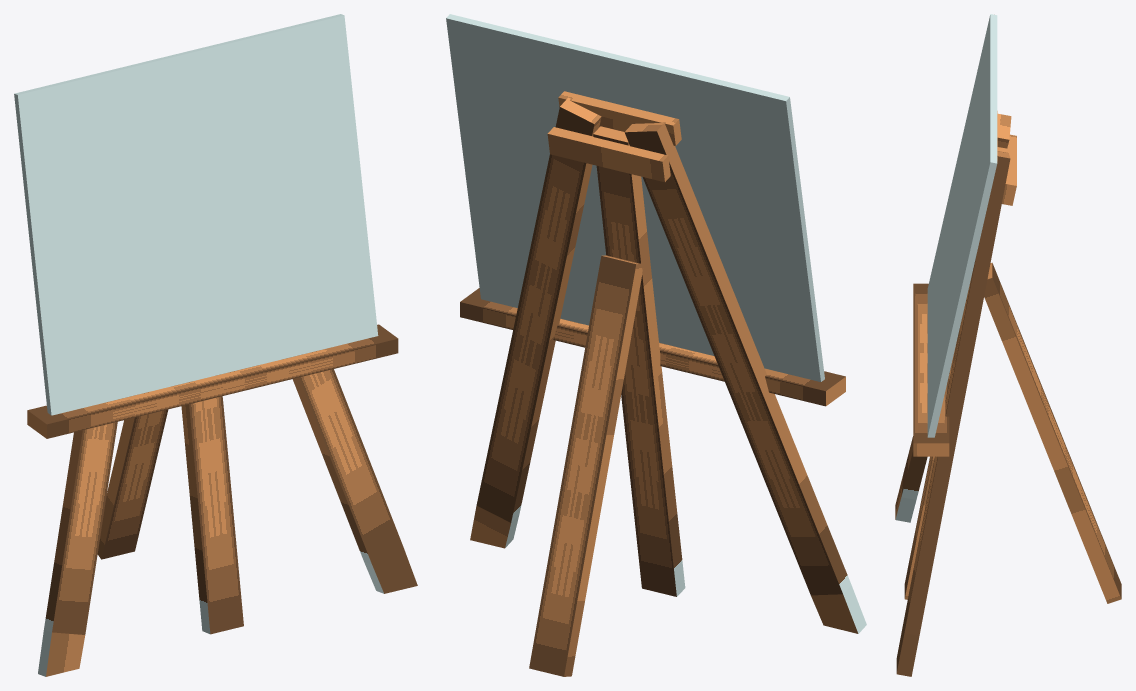
The model's file is easel_full.obj.
The picture shows the model from 3 angles, left to right: view 1: azimuth 30°, elevation 25°; view 2: azimuth 150°, elevation 25°; view 3: azimuth 270°, elevation 25°; orthographic projection. The views are drawn at different scales.
Parts seen in each view (by area): view 1: Cube.001_Cube.008; view 2: Cube.001_Cube.008; view 3: Cube.001_Cube.008.
Boxes of the visible parts, <box> form: Cube.001_Cube.008: <box>14,14,417,676</box>; Cube.001_Cube.008: <box>446,14,866,676</box>; Cube.001_Cube.008: <box>895,14,1121,676</box>.
Bounding box in the file's own units: 1.63 × 2.28 × 0.9209.
